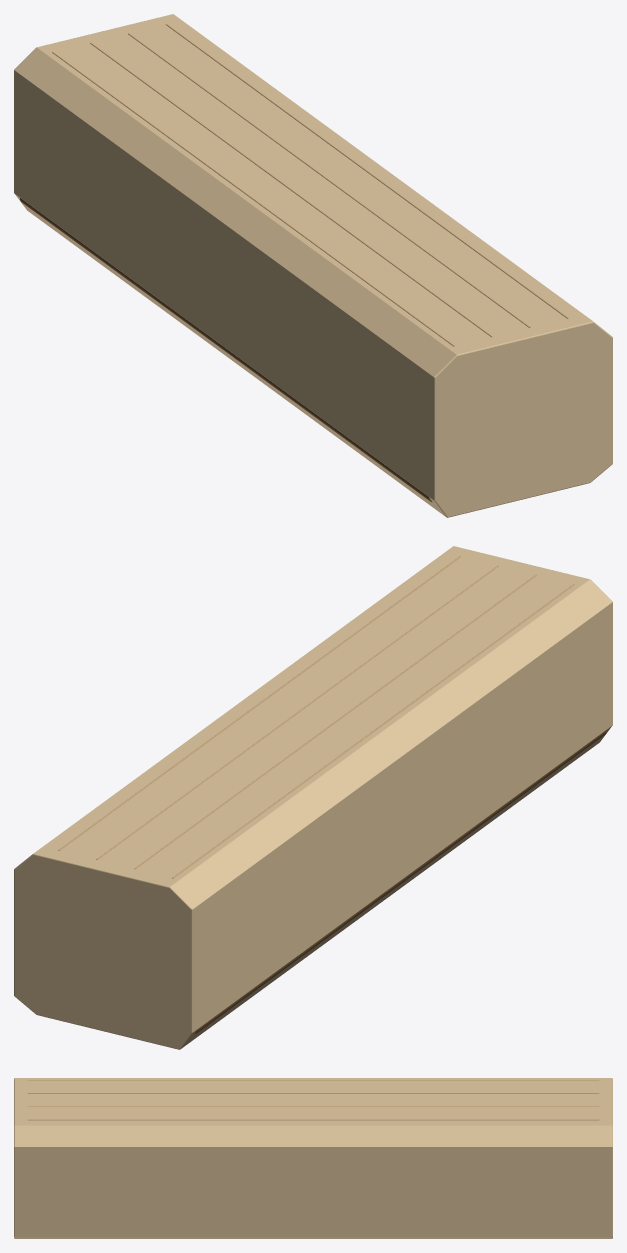
The model's file is sawmill-and-timber-yard-squared-timber-cant-e5d264ff__31187.glb.
3 views of the same model, one above another, from view 1: azimuth 30°, elevation 25°; view 2: azimuth 150°, elevation 25°; view 3: azimuth 270°, elevation 25° (orthographic). The views are drawn at different scales.
Parts seen in each view (by area): view 1: squared-timber-cant; view 2: squared-timber-cant; view 3: squared-timber-cant.
Boxes of the visible parts, x1,y1,x2,y2 form: squared-timber-cant: [14, 14, 612, 517]; squared-timber-cant: [14, 546, 612, 1049]; squared-timber-cant: [14, 1078, 612, 1238].
Bounding box in the file's own units: 0.5658 × 0.488 × 2.31.
